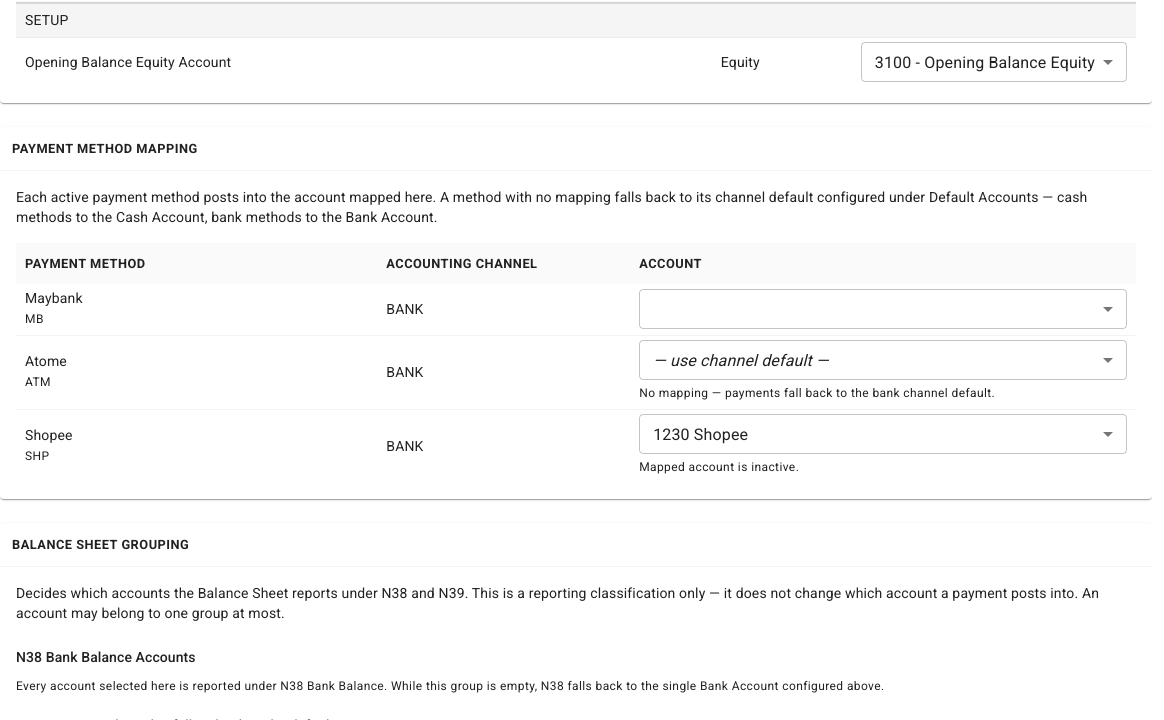
Test: AccountingSettingsPage — payment method mappings › marks the page dirty when only the mapping section changed
The image size is (1164, 720).
(page scrolled)
Click the dropdown labelled "— use channel default —".
click(741, 360)  # box x1=653 y1=351 x2=829 y2=370
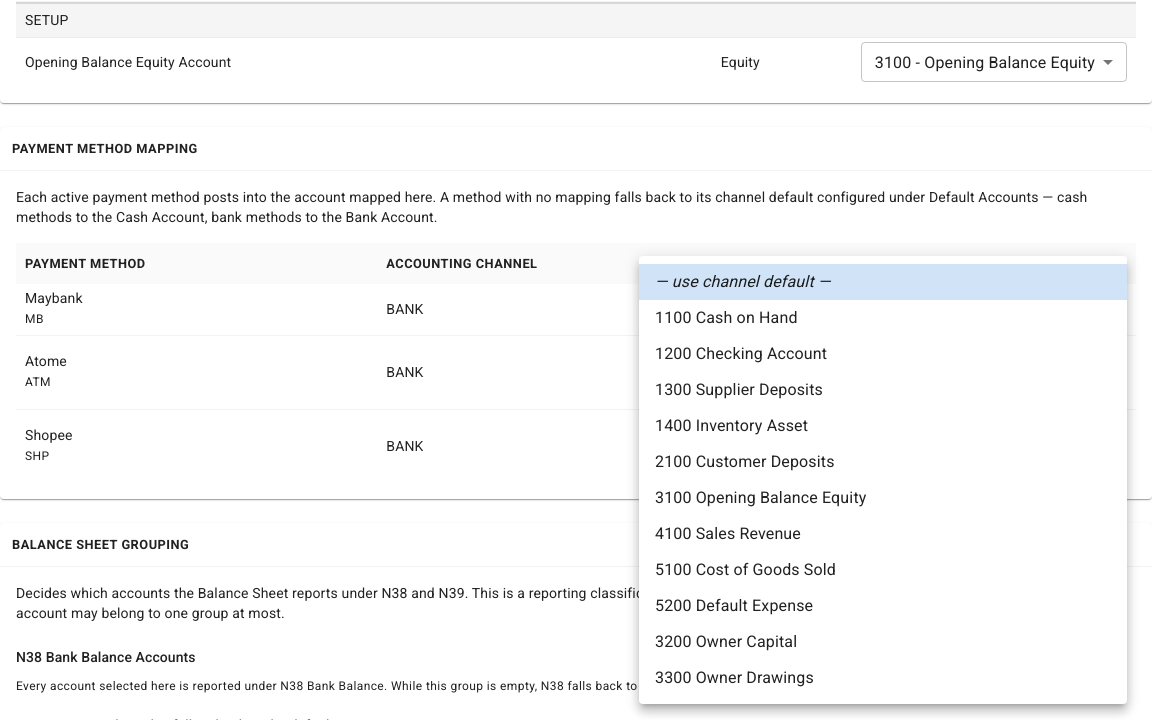
Click the option "5200 Default Expense".
click(734, 606)  # box x1=655 y1=596 x2=813 y2=615
(page scrolled)
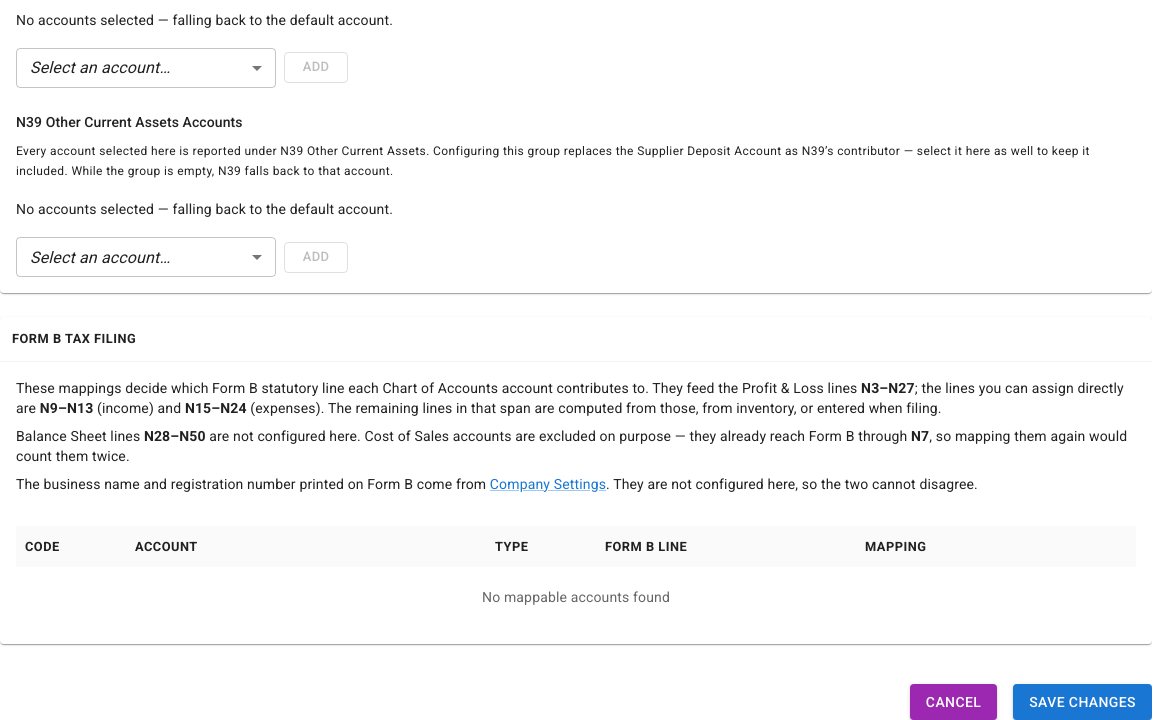
Expected: the button "Save Changes" is enabled, x1=1013 y1=684 x2=1152 y2=719
